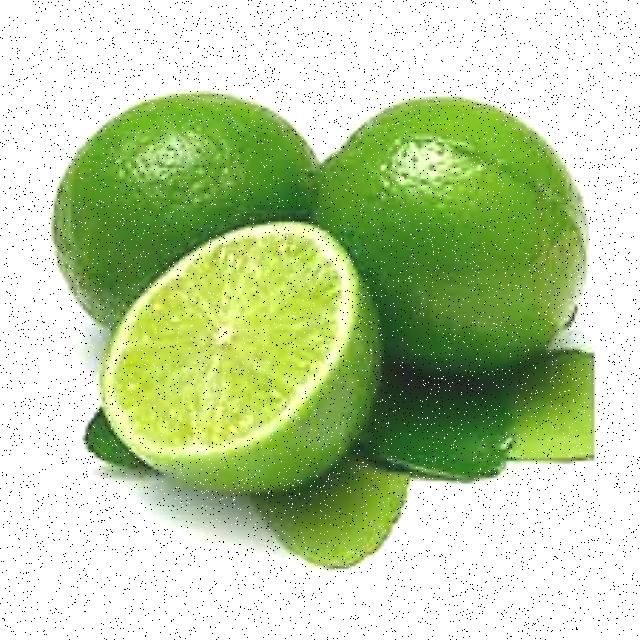Lemon: (102, 222, 384, 494), (319, 100, 589, 375), (54, 94, 319, 329)
